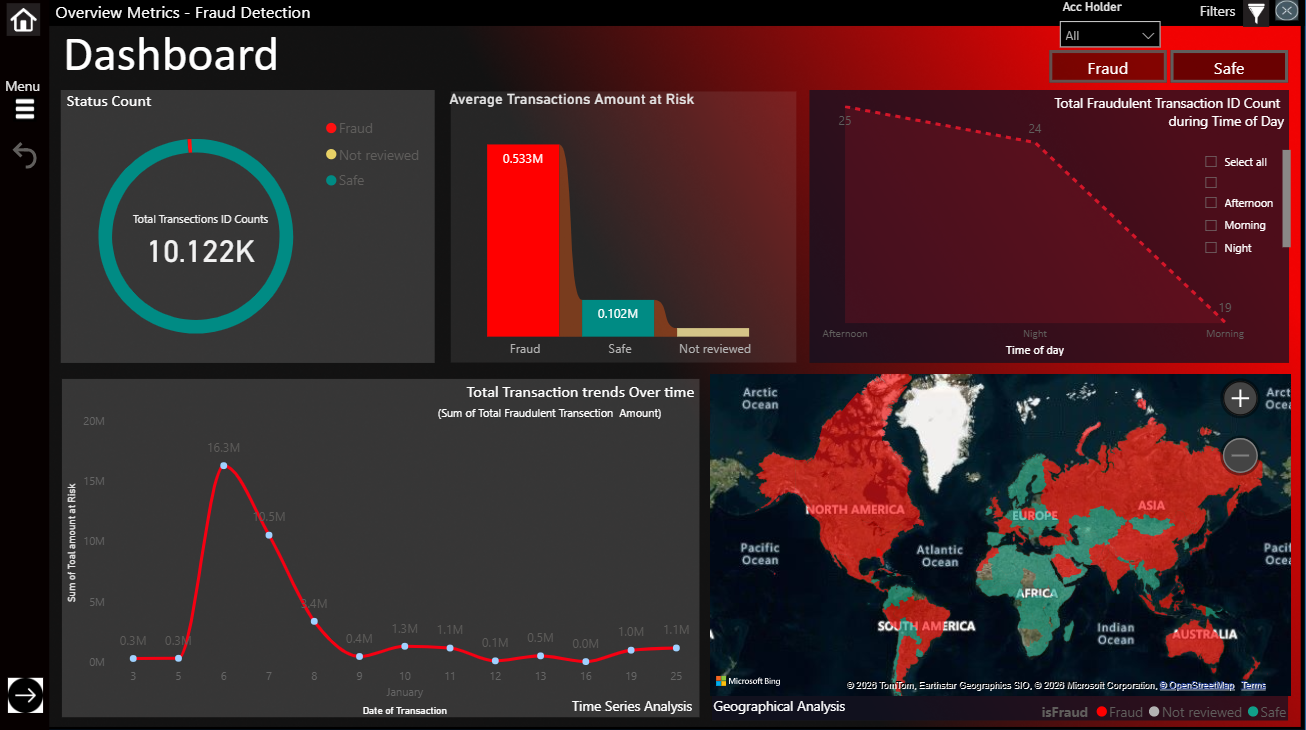

What the dashboard file says about the page in this screenshot:
{"tool":"powerbi","page":{"name":"Dashboard","canvas":[1280,720],"ordinal":0},"visuals":[{"type":"shape","box":[0,0,1279.5,719.9],"z":0},{"type":"image","box":[0,1.9,1279.2,718.9],"z":1000},{"type":"cardVisual","fields":{"Data":["Count(Fraud Dataset_NEW.nameOrig)"]},"box":[104.8,192.3,186.6,96.2],"z":2000},{"type":"shape","box":[442.1,94.7,338.8,265.6],"z":3000},{"type":"shape","box":[793.8,93.3,469.4,267],"z":4000},{"type":"shape","box":[43.1,0,1235.9,30.1],"z":5000},{"type":"shape","box":[61.7,93.3,366,267],"z":6000},{"type":"shape","box":[62.1,375.9,624.2,331.6],"z":7000},{"type":"textbox","box":[50.8,0,294.4,37.2],"z":8000},{"type":"donutChart","title":"Status Count","fields":{"Y":["Count(Fraud Dataset_NEW.nameOrig)"],"Category":["Fraud Dataset_NEW.isFraud"]},"box":[62.6,93.1,363.8,267.3],"z":9000},{"type":"shape","box":[698.6,407.8,563.9,301.4],"z":10000},{"type":"lineChart","title":"Total Transaction trends Over time ","fields":{"Category":["Fraud Dataset_NEW.Date of transaction.Variation.Date Hierarchy.Month","Fraud Dataset_NEW.Date of transaction.Variation.Date Hierarchy.Day"],"Series":["Fraud Dataset_NEW.isFraud"],"Y":["Sum(Fraud Dataset_NEW.amount)"]},"box":[62.1,377.7,624.2,331.6],"z":11000},{"type":"textbox","box":[58.9,23,234,68.9],"z":12000},{"type":"columnChart","title":"Average Transections Amount at Risk","fields":{"Category":["Fraud Dataset_NEW.isFraud"],"Y":["Avg(Fraud Dataset_NEW.amount)"]},"box":[436.4,93.3,344.5,271.3],"z":14000},{"type":"shape","box":[0,0,50.1,719.7],"z":15000},{"type":"actionButton","box":[14.2,99.3,23.1,24.8],"z":16000},{"type":"textbox","box":[936.2,92.2,326.3,63.8],"z":17000},{"type":"actionButton","box":[8.9,138.3,35.5,37.2],"z":18000},{"type":"filledMap","fields":{"Category":["Fraud Dataset_NEW.branch"],"Series":["Fraud Dataset_NEW.isFraud"]},"box":[691.5,365.3,578.1,354.6],"z":19000},{"type":"areaChart","fields":{"Category":["Fraud Dataset_NEW.Time of day"],"Series":["Fraud Dataset_NEW.isFraud"],"Y":["CountNonNull(Fraud Dataset_NEW.nameOrig)"]},"box":[750.1,95.8,530.2,264.2],"z":20000},{"type":"actionButton","box":[1028.7,54.1,115,32.1],"z":21000},{"type":"actionButton","box":[1147.1,54.1,115,32.1],"z":22000},{"type":"textbox","box":[507.1,680.9,326.3,28.4],"z":23000},{"type":"textbox","box":[328,393.7,326.3,63.8],"z":24000},{"type":"image","box":[1245.3,0,32.1,30.2],"z":25000},{"type":"slicer","fields":{"Values":["Fraud Dataset_NEW.Time of day"]},"box":[1167.9,147.2,101.9,117],"z":26000},{"type":"slicer","fields":{"Values":["Fraud Dataset_NEW.nameOrig"]},"box":[1028.3,0,118.9,71.7],"z":27000},{"type":"image","box":[1200,0,62.3,35.8],"z":29000},{"type":"actionButton","box":[0,76.2,47.9,23.1],"z":30000},{"type":"actionButton","box":[1166,0,52.8,30.2],"z":31000},{"type":"textbox","box":[556.6,681.1,135.8,37.7],"z":32000},{"type":"image","box":[3.5,0,42.6,47.9],"z":33000},{"type":"image","box":[4.3,661.7,44.5,47.4],"z":34000}]}

Visuals, with their boxes on the page's 1280x720 design canvas (x1, y1, x2, y2). These are canvas units, not pixel positions in the 1306x730 screenshot, which may show the page scaled, cropped or inside an application window:
shape: x1=0 y1=0 x2=1280 y2=720
image: x1=0 y1=2 x2=1279 y2=721
cardVisual - Count(Fraud Dataset_NEW.nameOrig): x1=105 y1=192 x2=291 y2=288
shape: x1=442 y1=95 x2=781 y2=360
shape: x1=794 y1=93 x2=1263 y2=360
shape: x1=43 y1=0 x2=1279 y2=30
shape: x1=62 y1=93 x2=428 y2=360
shape: x1=62 y1=376 x2=686 y2=708
textbox: x1=51 y1=0 x2=345 y2=37
"Status Count" donutChart: x1=63 y1=93 x2=426 y2=360
shape: x1=699 y1=408 x2=1262 y2=709
"Total Transaction trends Over time " lineChart: x1=62 y1=378 x2=686 y2=709
textbox: x1=59 y1=23 x2=293 y2=92
"Average Transections Amount at Risk" columnChart: x1=436 y1=93 x2=781 y2=365
shape: x1=0 y1=0 x2=50 y2=720
actionButton: x1=14 y1=99 x2=37 y2=124
textbox: x1=936 y1=92 x2=1262 y2=156
actionButton: x1=9 y1=138 x2=44 y2=176
filledMap - Fraud Dataset_NEW.branch x Fraud Dataset_NEW.isFraud: x1=692 y1=365 x2=1270 y2=720
areaChart - Fraud Dataset_NEW.Time of day x Fraud Dataset_NEW.isFraud: x1=750 y1=96 x2=1280 y2=360
actionButton: x1=1029 y1=54 x2=1144 y2=86
actionButton: x1=1147 y1=54 x2=1262 y2=86
textbox: x1=507 y1=681 x2=833 y2=709
textbox: x1=328 y1=394 x2=654 y2=458
image: x1=1245 y1=0 x2=1277 y2=30
slicer - Fraud Dataset_NEW.Time of day: x1=1168 y1=147 x2=1270 y2=264
slicer - Fraud Dataset_NEW.nameOrig: x1=1028 y1=0 x2=1147 y2=72
image: x1=1200 y1=0 x2=1262 y2=36
actionButton: x1=0 y1=76 x2=48 y2=99
actionButton: x1=1166 y1=0 x2=1219 y2=30
textbox: x1=557 y1=681 x2=692 y2=719
image: x1=4 y1=0 x2=46 y2=48
image: x1=4 y1=662 x2=49 y2=709
